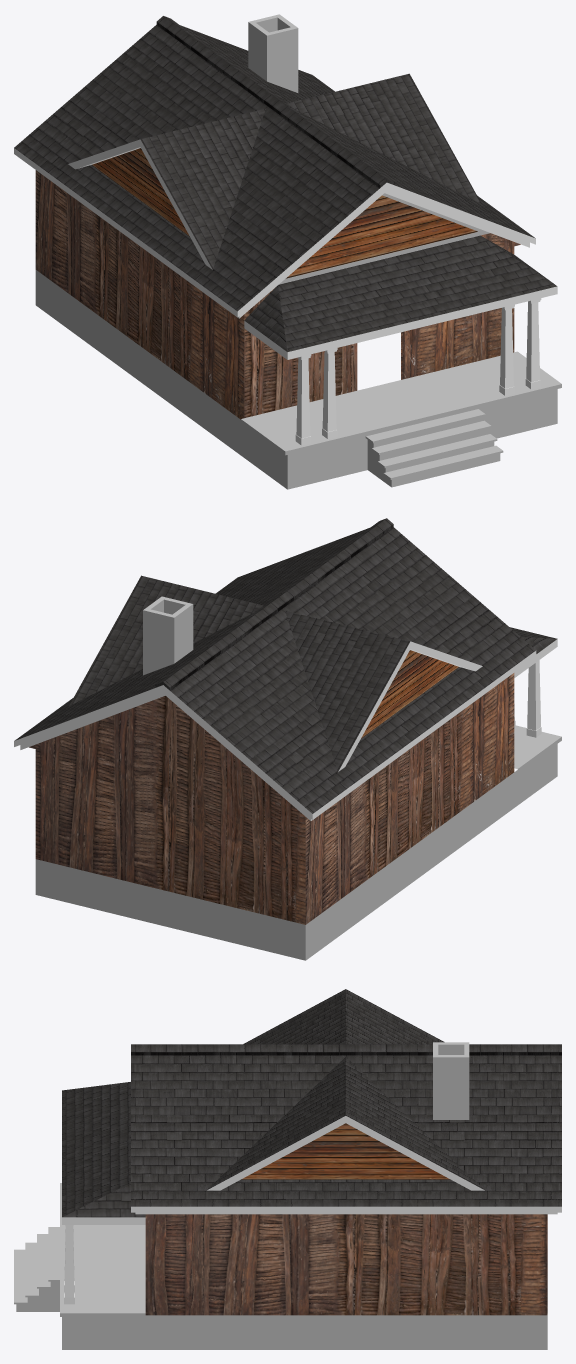
Rendered from stick_house.fbx.
The picture shows the model from 3 angles, top to bottom: view 1: azimuth 30°, elevation 25°; view 2: azimuth 150°, elevation 25°; view 3: azimuth 270°, elevation 25°; orthographic projection. The views are drawn at different scales.
Visible parts, largest first — view 1: stick_house; view 2: stick_house; view 3: stick_house.
Part boxes in pixels (left/top/right/bottom): stick_house: left=14, top=14, right=561, bottom=489; stick_house: left=14, top=518, right=561, bottom=960; stick_house: left=14, top=989, right=561, bottom=1349.
Bounding box in the file's own units: 809 × 702 × 1334.
